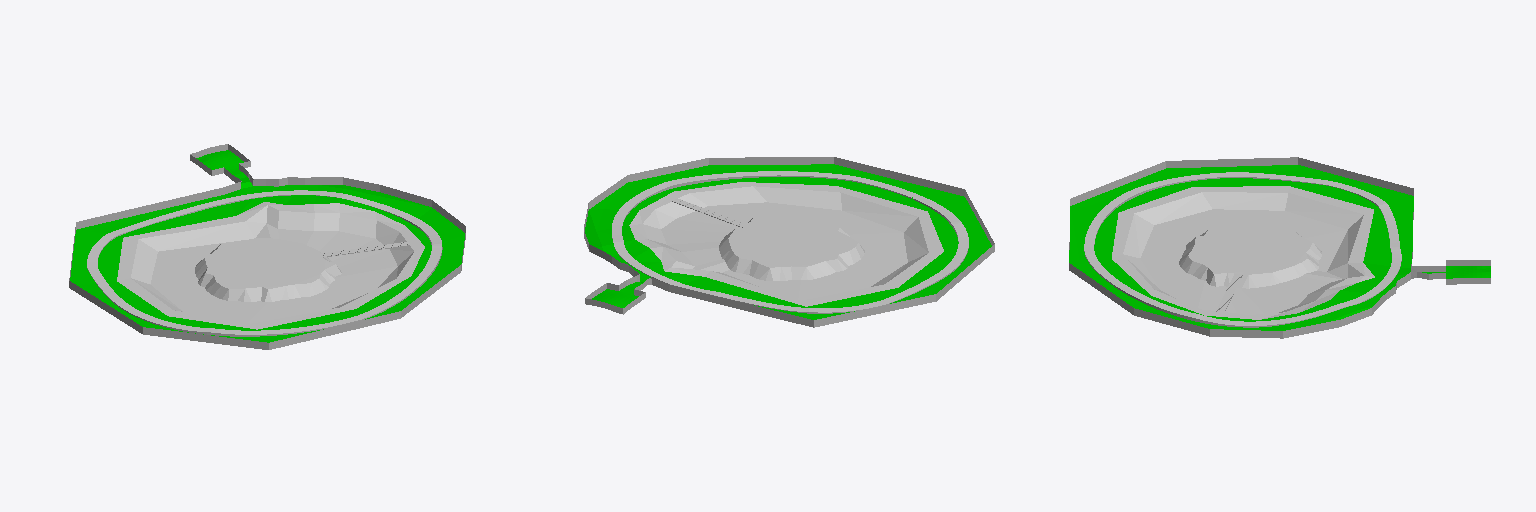
The model's file is garden_start.obj.
3 views of the same model, side by side, from view 1: azimuth 30°, elevation 25°; view 2: azimuth 150°, elevation 25°; view 3: azimuth 270°, elevation 25° (orthographic).
Parts seen in each view (by area): view 1: Grid, Cylinder, Cube; view 2: Grid, Cylinder, Cube; view 3: Grid, Cylinder, Cube.
Boxes of the visible parts, <box> form: Grid: <box>69,144,465,349</box>; Cylinder: <box>195,238,341,301</box>; Cube: <box>87,190,442,336</box>; Grid: <box>584,157,994,327</box>; Cylinder: <box>719,215,864,280</box>; Cube: <box>612,171,968,313</box>; Grid: <box>1069,157,1490,338</box>; Cylinder: <box>1179,222,1321,288</box>; Cube: <box>1084,172,1401,327</box>.
Size of the model in its own units: 185 by 16.65 by 190.